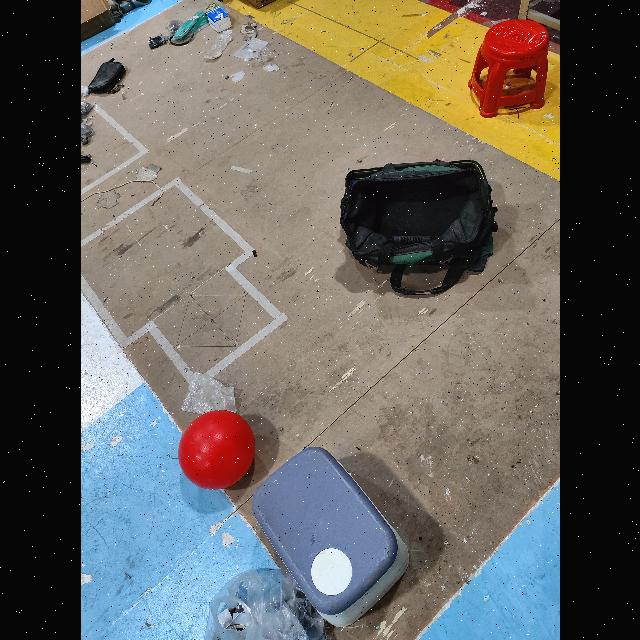R: (176, 405, 258, 489)
